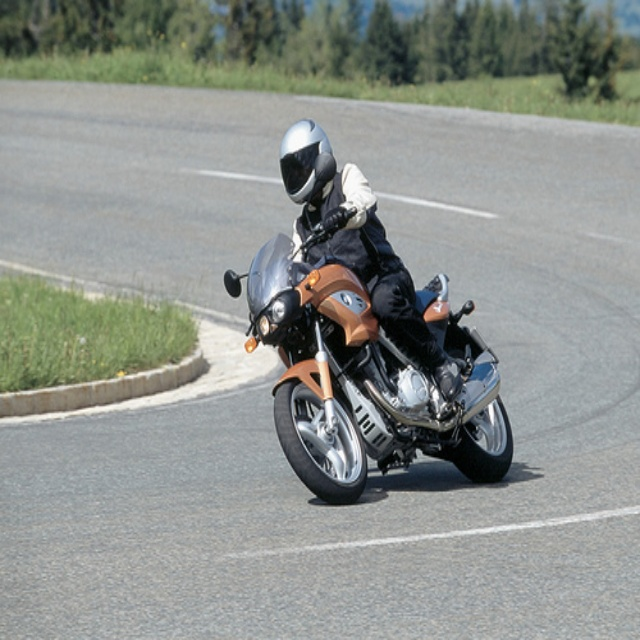Motorcycle: (223, 152, 515, 503)
